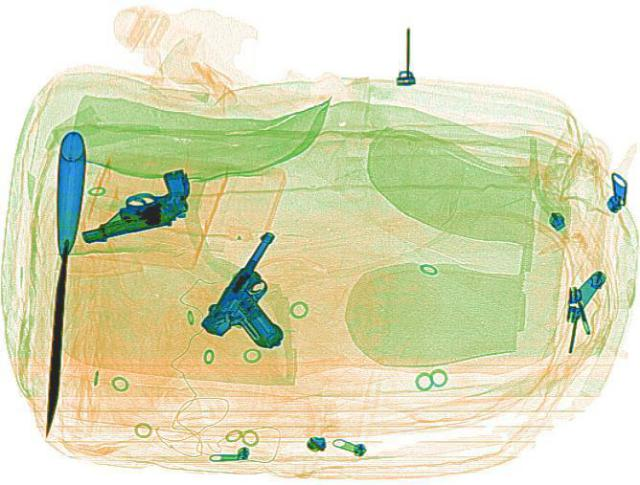Gun: (191, 229, 343, 354), (61, 166, 206, 243)
Knife: (35, 129, 87, 436)
